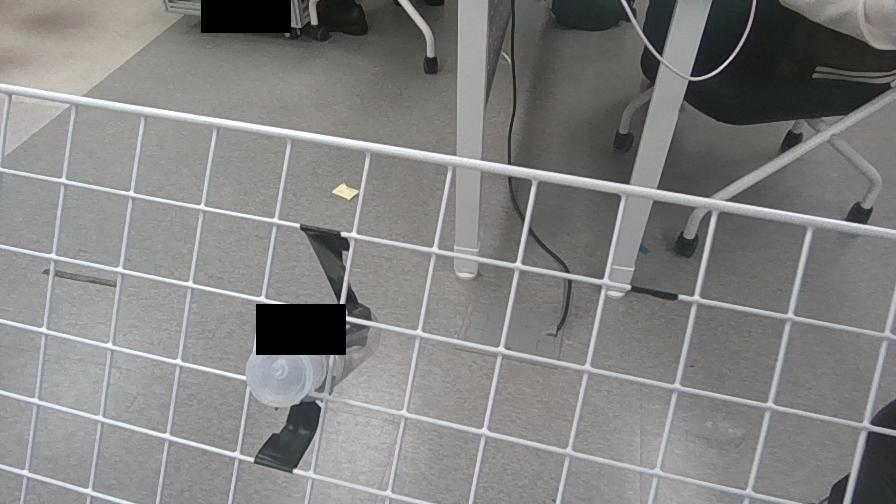Cap: (244, 337, 308, 406)
